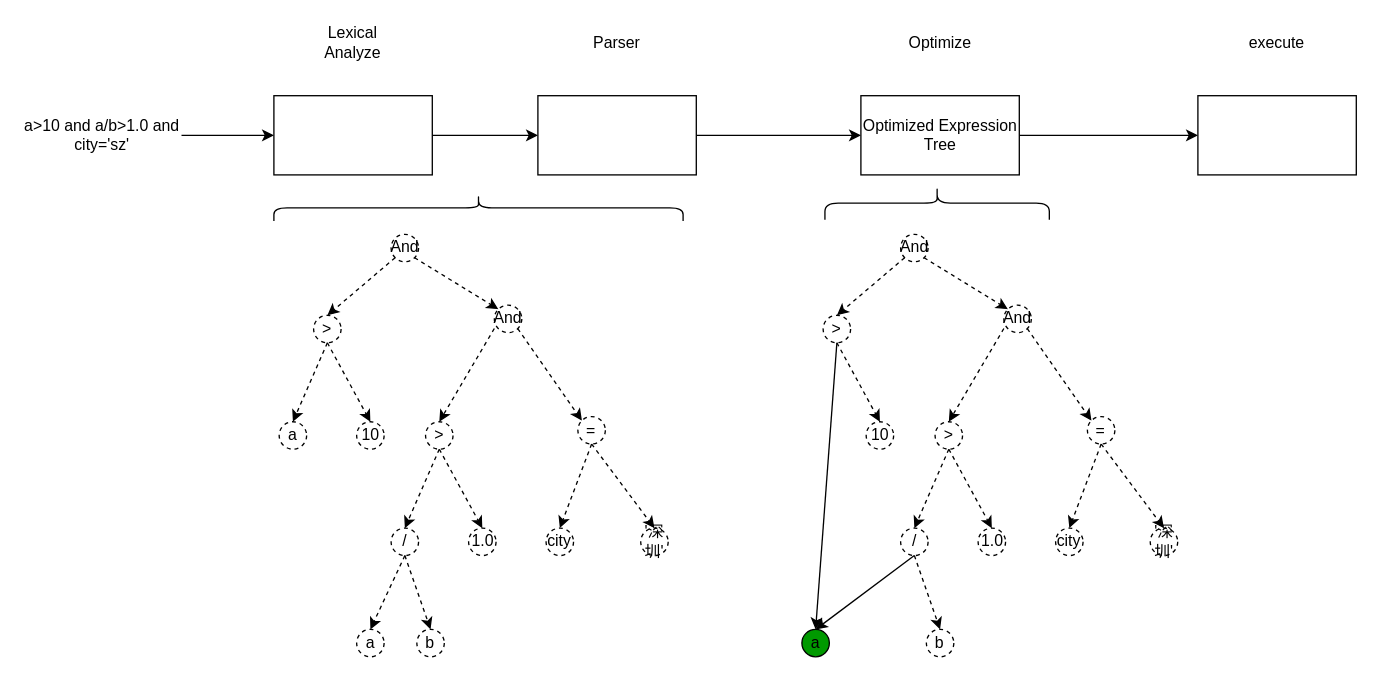
The diagram is 1379 pixels wide and 680 high, and some of its shapes have lost their labels. The box of each missing label's shape, as (x1, y1, x2, y2) in pixels:
AST: (273, 94, 432, 175)
Execute Runtime: (1197, 94, 1356, 175)
Expression Tree: (537, 94, 696, 175)
